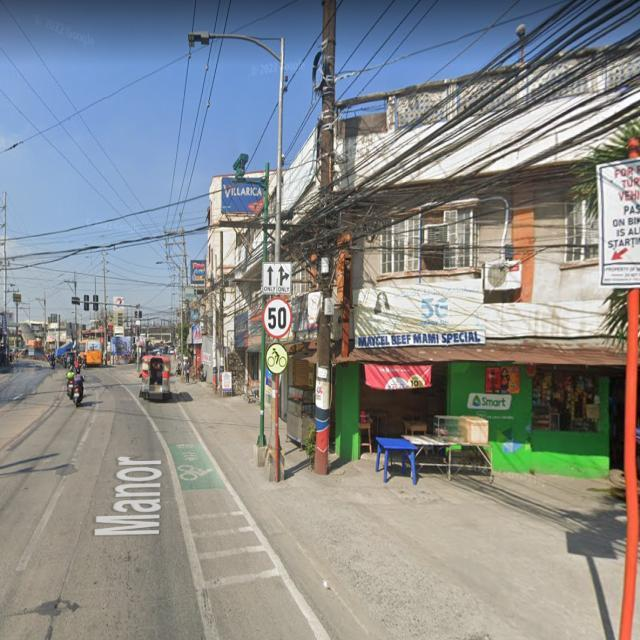50 kph: (263, 298, 292, 339)
bike lane: (265, 343, 288, 374)
